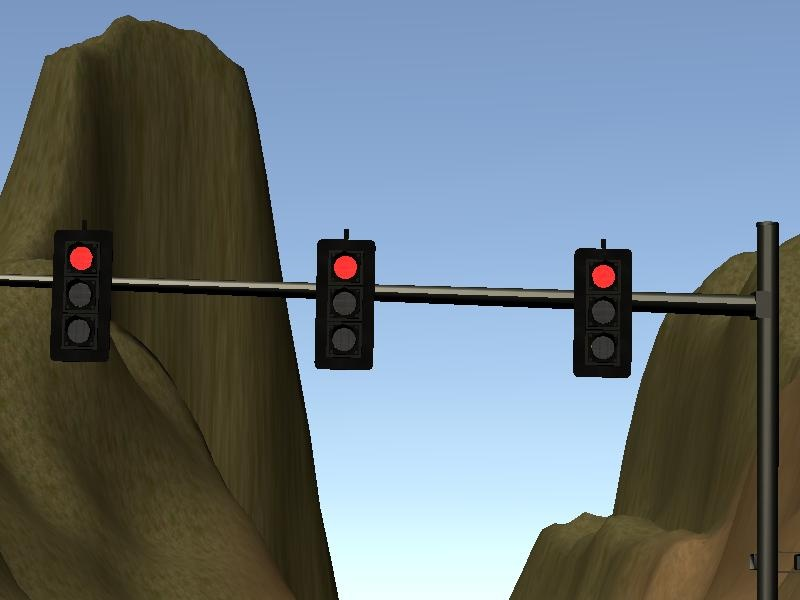RED: (316, 239, 375, 369), (572, 248, 631, 378), (52, 228, 111, 358)
